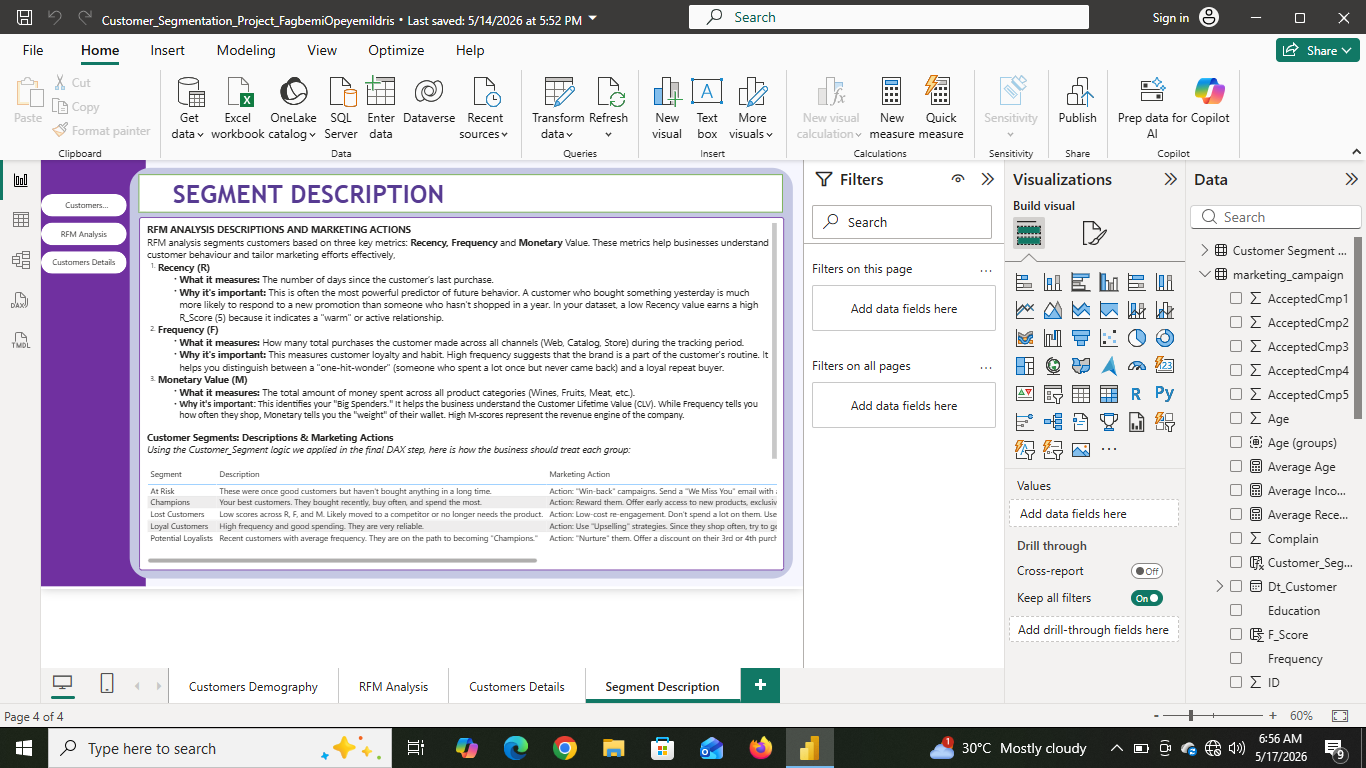

The dashboard page shown, as its layout file describes it:
{"tool":"powerbi","page":{"name":"Segment Description","canvas":[1280,720],"ordinal":3},"visuals":[{"type":"textbox","box":[173,100.8,1068.3,411.5],"z":0},{"type":"tableEx","fields":{"Values":["With this dataset customer segm.Segment","With this dataset customer segm.Description","With this dataset customer segm.Marketing Action"]},"box":[173,512.3,1068.3,169.7],"z":1000},{"type":"textbox","box":[176.4,26.9,648.4,58.8],"z":2000},{"type":"pageNavigator","box":[0,57.1,144.5,136.1],"z":3000}]}

Visuals, with their boxes on the page's 1280x720 design canvas (x1, y1, x2, y2). These are canvas units, not pixel positions in the 1366x768 screenshot, which may show the page scaled, cropped or inside an application window:
textbox: 173, 101, 1241, 512
tableEx - With this dataset customer segm.Segment x With this dataset customer segm.Description: 173, 512, 1241, 682
textbox: 176, 27, 825, 86
pageNavigator: 0, 57, 144, 193
